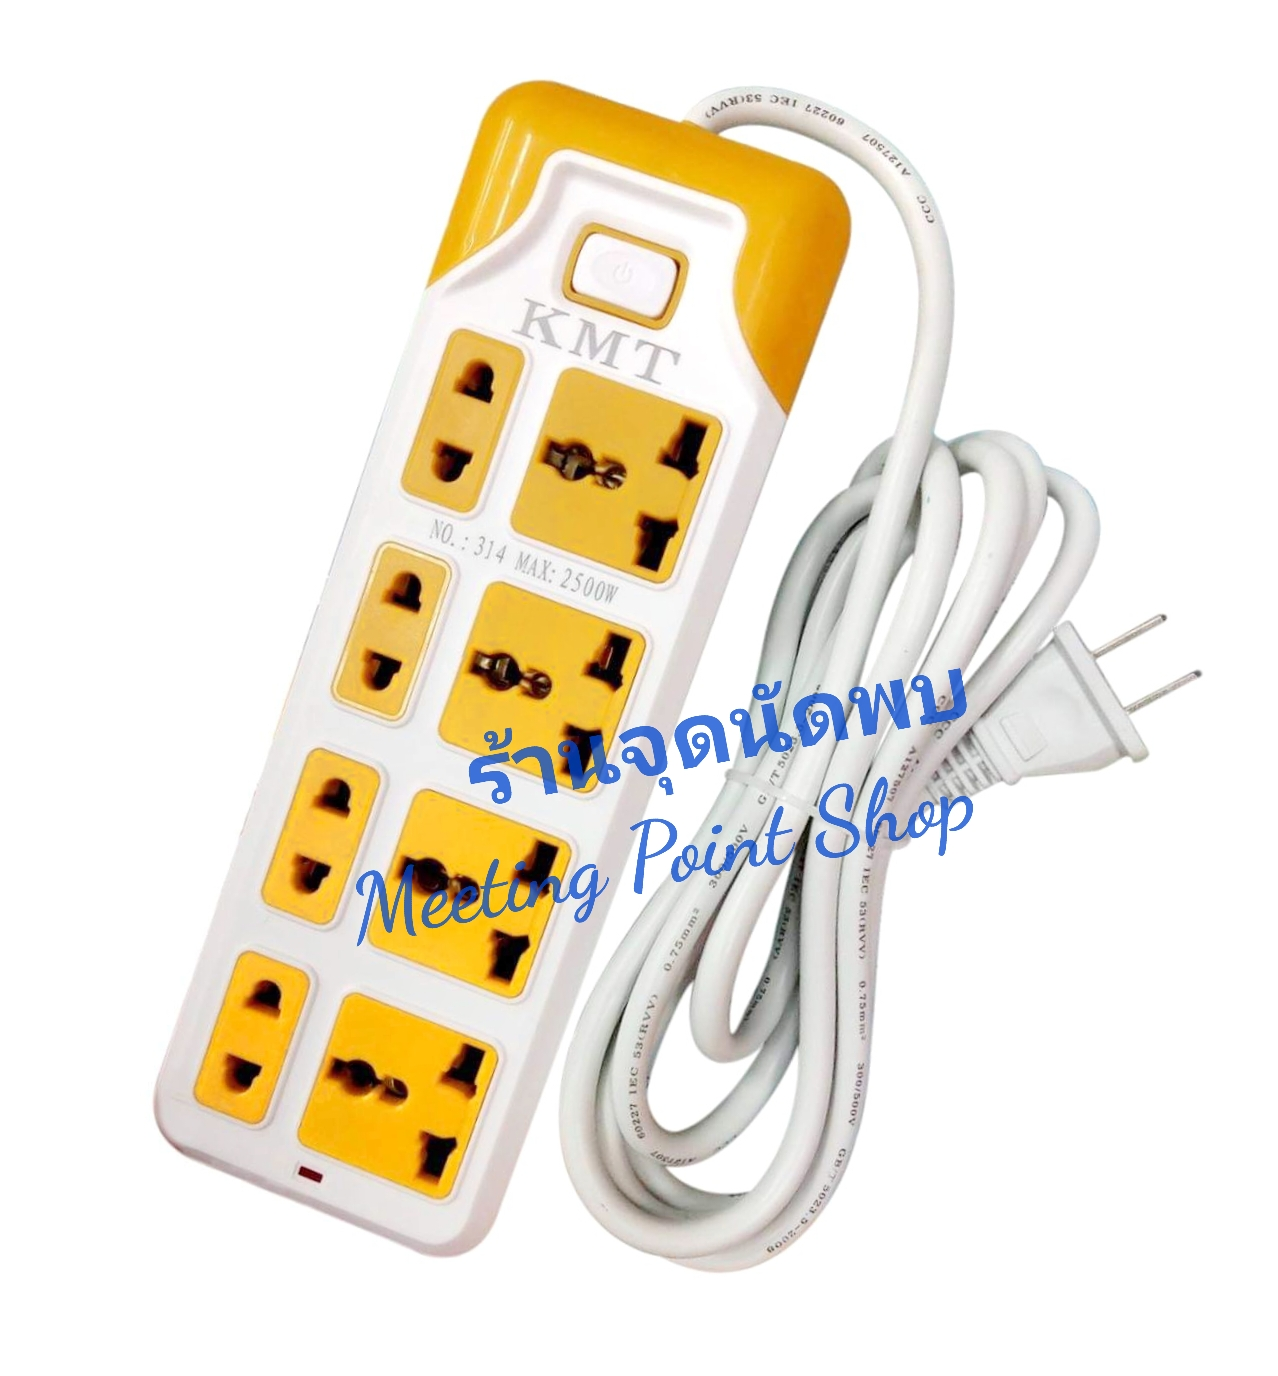Three_eye_plug: (139, 68, 925, 1269)
